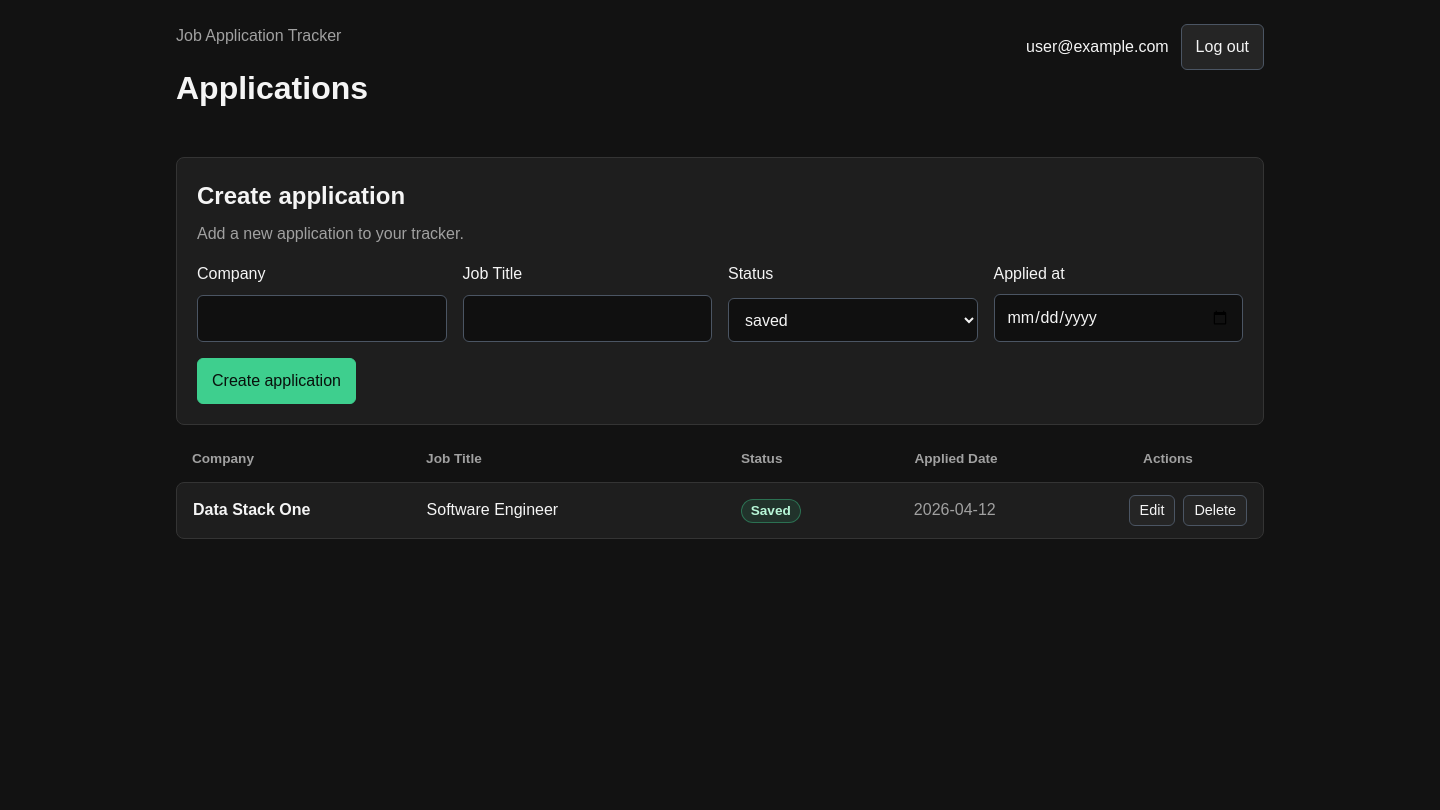
Test: ApplicationsPage update flow › shows an update error and keeps edit mode open when update fails
Click the button "Edit" at (1152, 510), box left=1129, top=495, right=1175, bottom=526
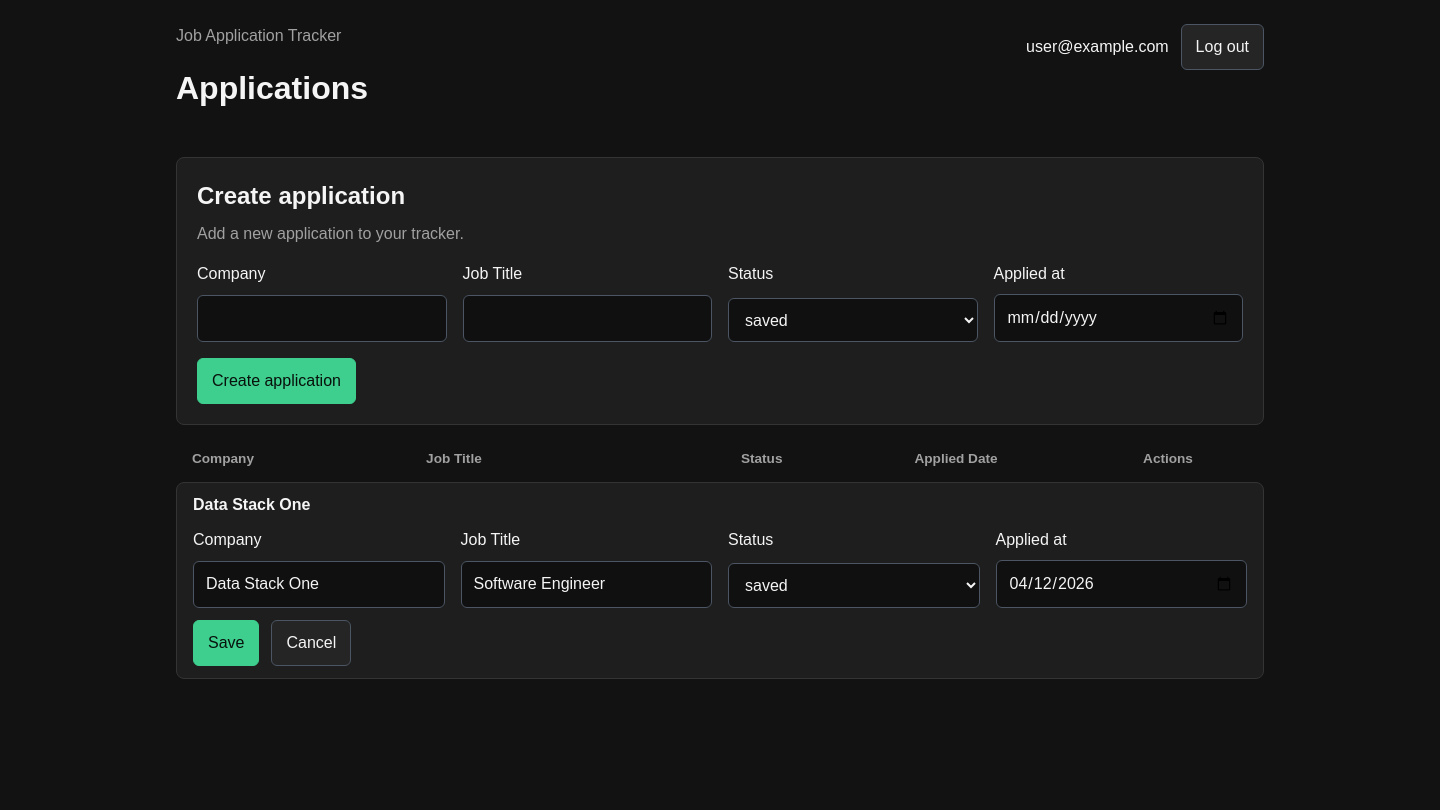
Replace the text in the field labelled "Company" below "Data Stack One" with "Acme Labs" at (319, 584), box left=193, top=561, right=444, bottom=608
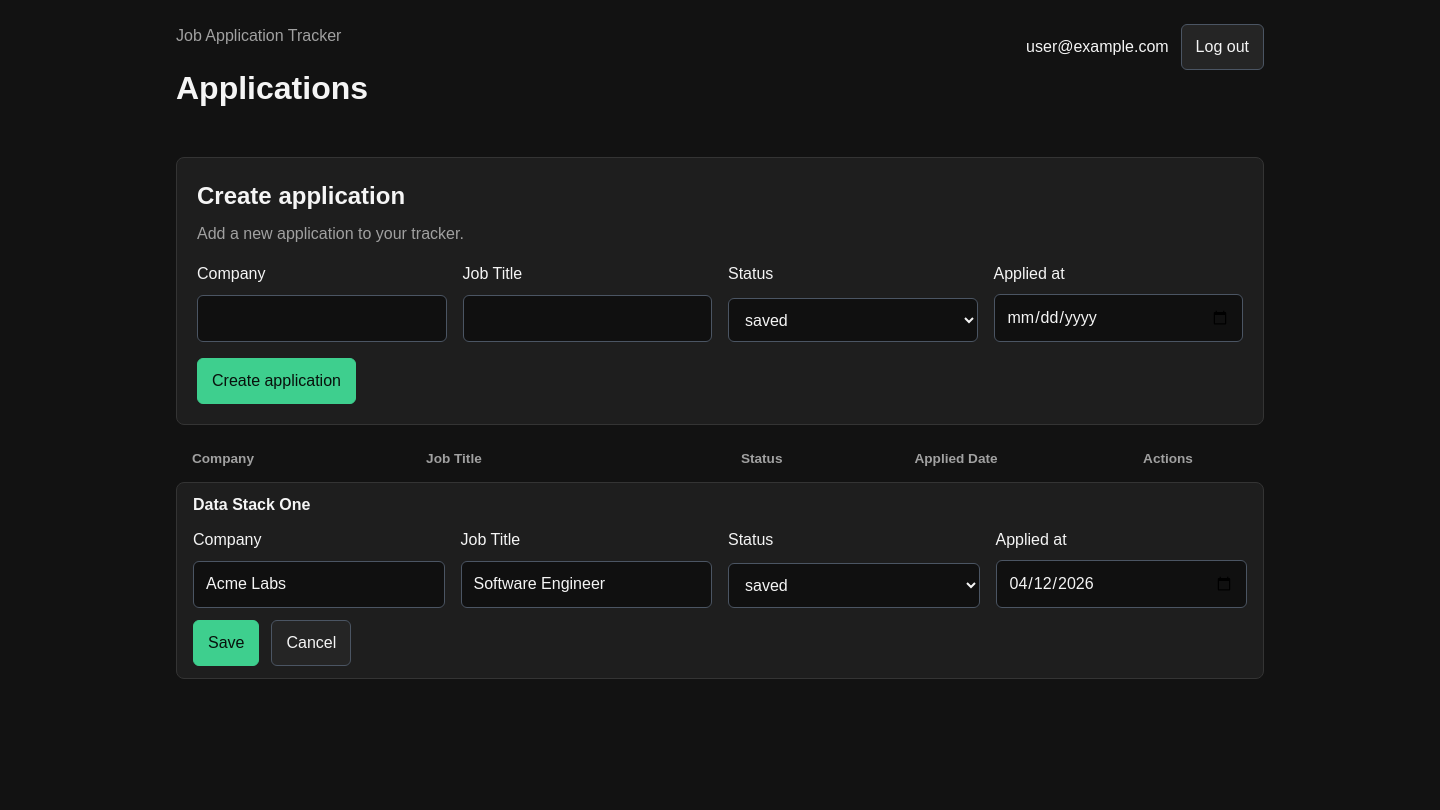
Click the button "Save" at (226, 643), box left=193, top=620, right=260, bottom=666
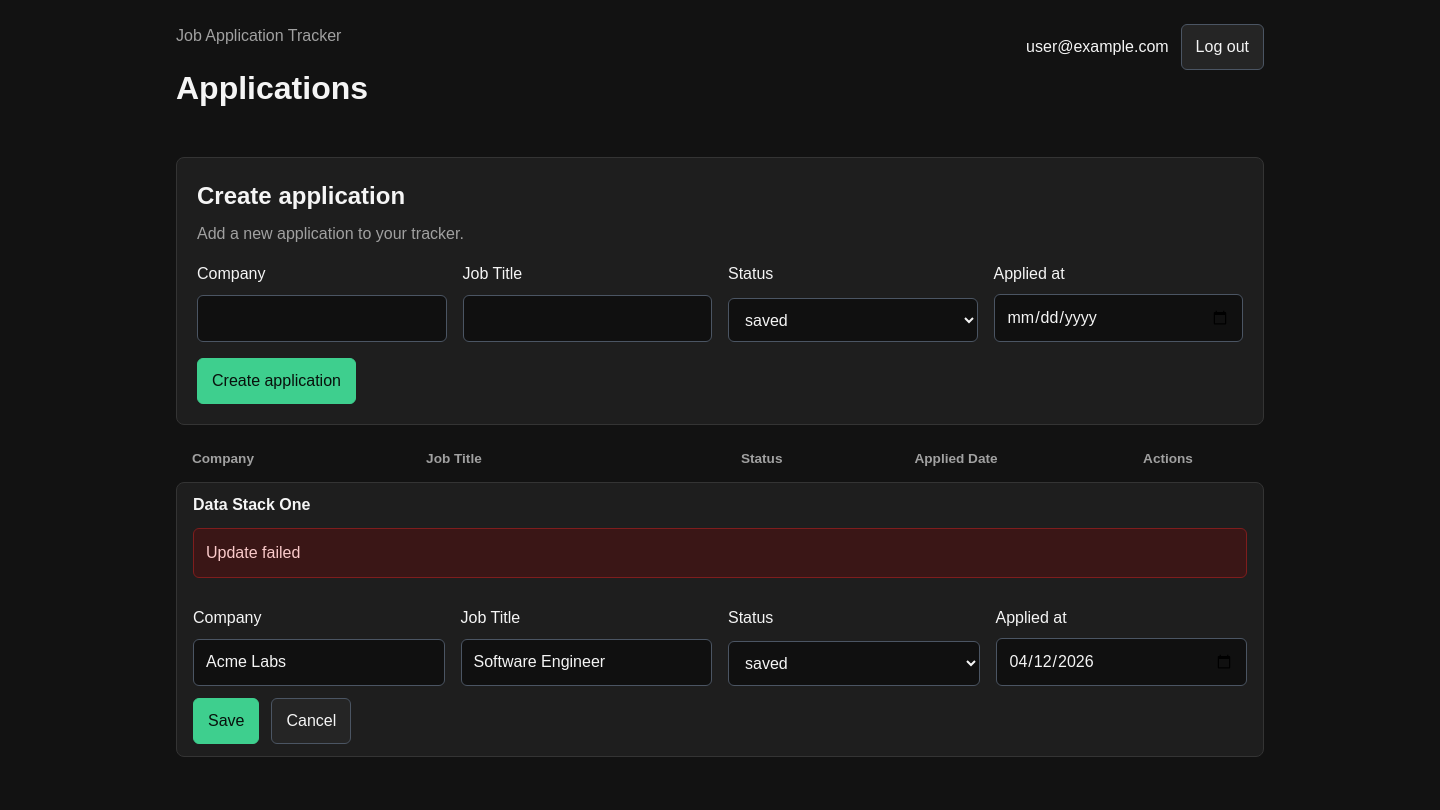
expect the button "Save" is shown: met, box left=193, top=698, right=260, bottom=744
expect the message reads "Update failed": met, box left=206, top=544, right=300, bottom=561
Click the button "Cancel" at (311, 721), box left=272, top=698, right=351, bottom=744
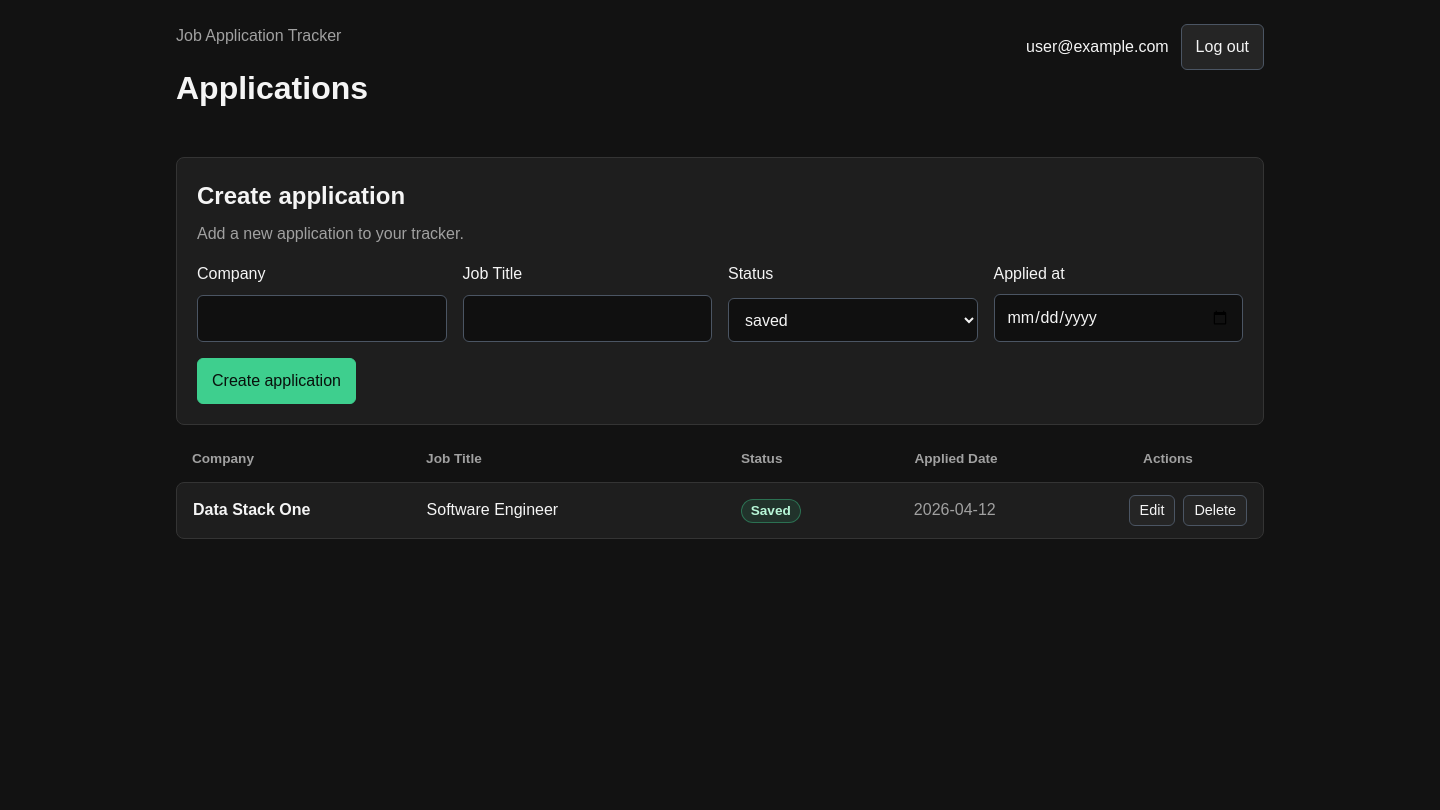
expect the heading "Acme Labs" is not shown: met
expect the text "Software Engineer" is shown: met, box left=427, top=502, right=558, bottom=518
expect the text "saved" is shown: met, box left=741, top=499, right=801, bottom=523
